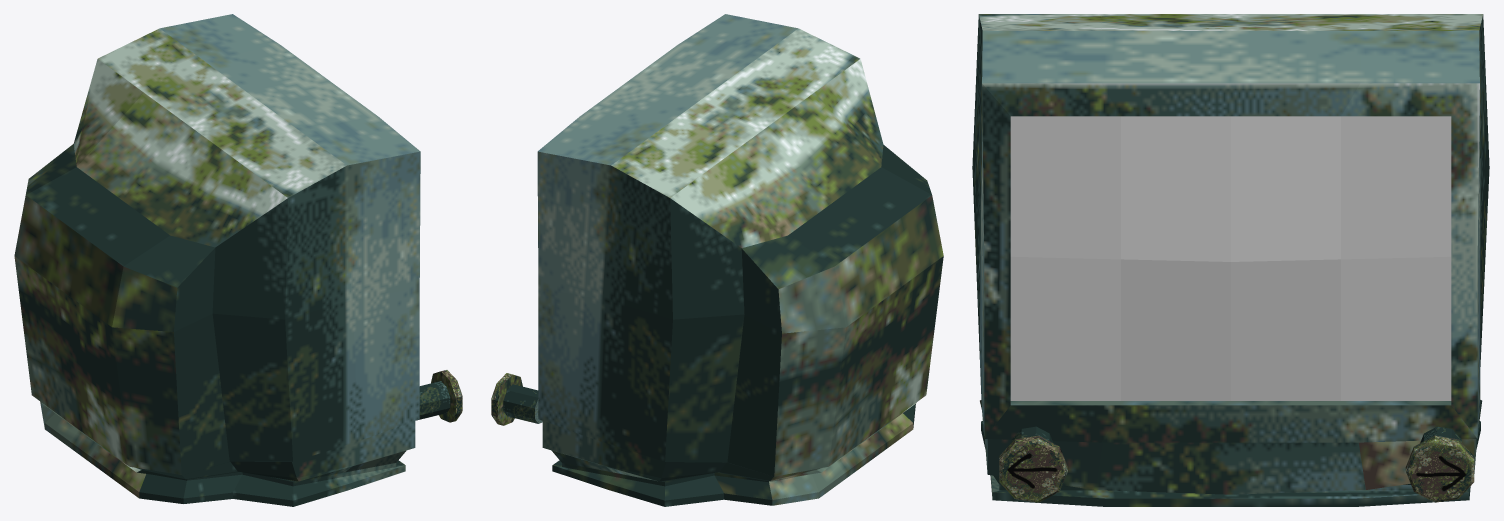
The model's file is crt_tv.glb.
3 renders of one model, left to right at view 1: azimuth 30°, elevation 25°; view 2: azimuth 150°, elevation 25°; view 3: azimuth 270°, elevation 25°, orthographic. The views are drawn at different scales.
Parts seen in each view (by area): view 1: CRT, Btn_Prev; view 2: CRT, Btn_Next; view 3: CRT, Btn_Next, Btn_Prev.
Boxes of the visible parts, <box> form: CRT: <box>14,14,420,506</box>; Btn_Prev: <box>417,370,462,422</box>; CRT: <box>537,14,943,506</box>; Btn_Next: <box>491,373,542,425</box>; CRT: <box>972,14,1489,506</box>; Btn_Next: <box>1405,426,1474,502</box>; Btn_Prev: <box>999,426,1067,502</box>.
Size of the model in its own units: 2.26 by 2.26 by 2.44.
3 materials, 2 textured.
